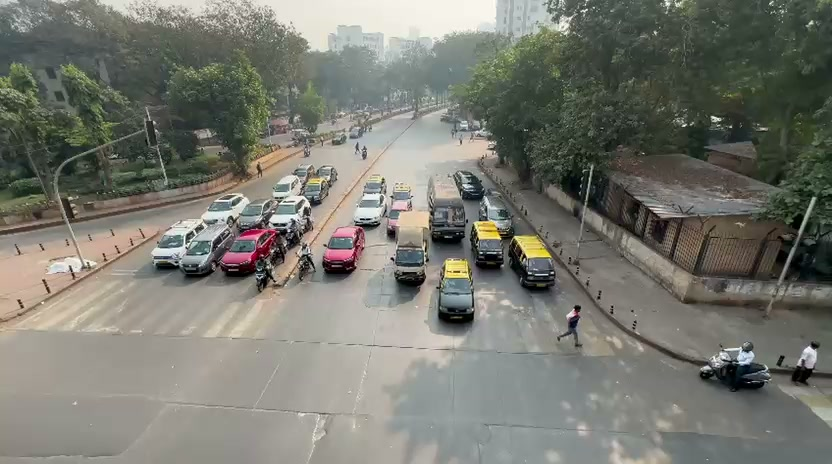bus: (429, 178, 465, 244)
car: (323, 225, 364, 274)
motorcycle: (295, 244, 314, 283)
pedestrian: (256, 163, 264, 179)
taxi: (437, 260, 475, 325)
